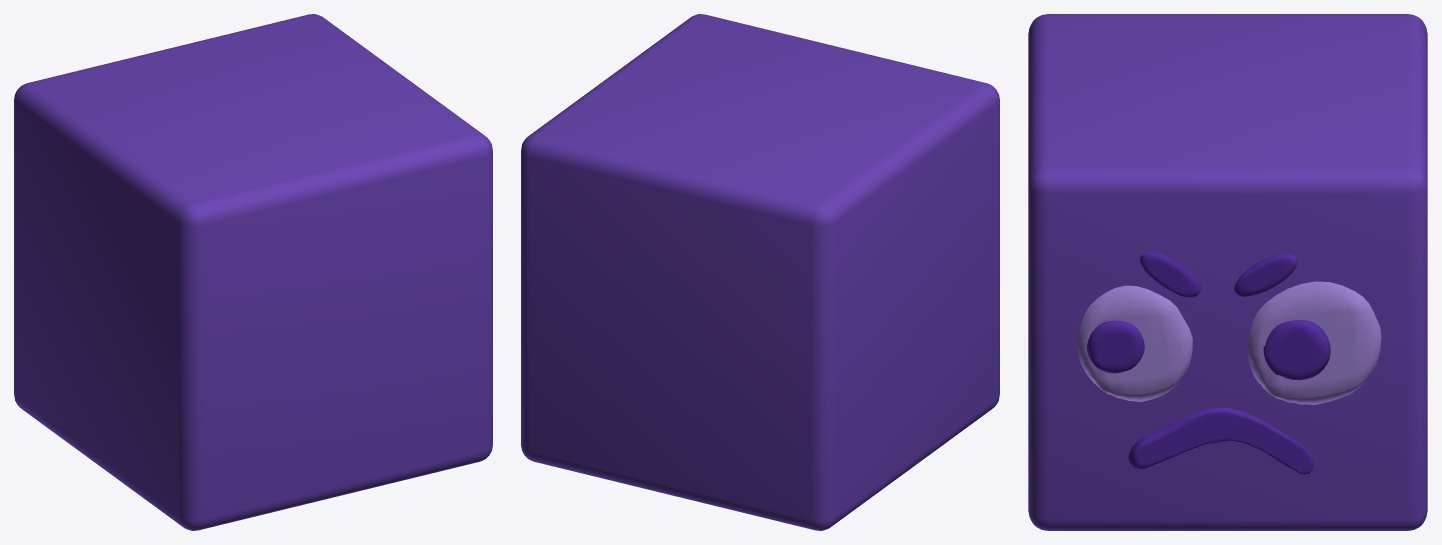
The model's file is purplecube_small.fbx.
The picture shows the model from 3 angles, left to right: view 1: azimuth 30°, elevation 25°; view 2: azimuth 150°, elevation 25°; view 3: azimuth 270°, elevation 25°; orthographic projection. The views are drawn at different scales.
Parts seen in each view (by area): view 1: Cylinder; view 2: Cylinder; view 3: Cylinder.
Part boxes in pixels (bbox=[...]): Cylinder: bbox=[14, 14, 492, 530]; Cylinder: bbox=[521, 14, 999, 530]; Cylinder: bbox=[1028, 14, 1427, 530].
Size of the model in its own units: 2.07 by 2 by 2.
